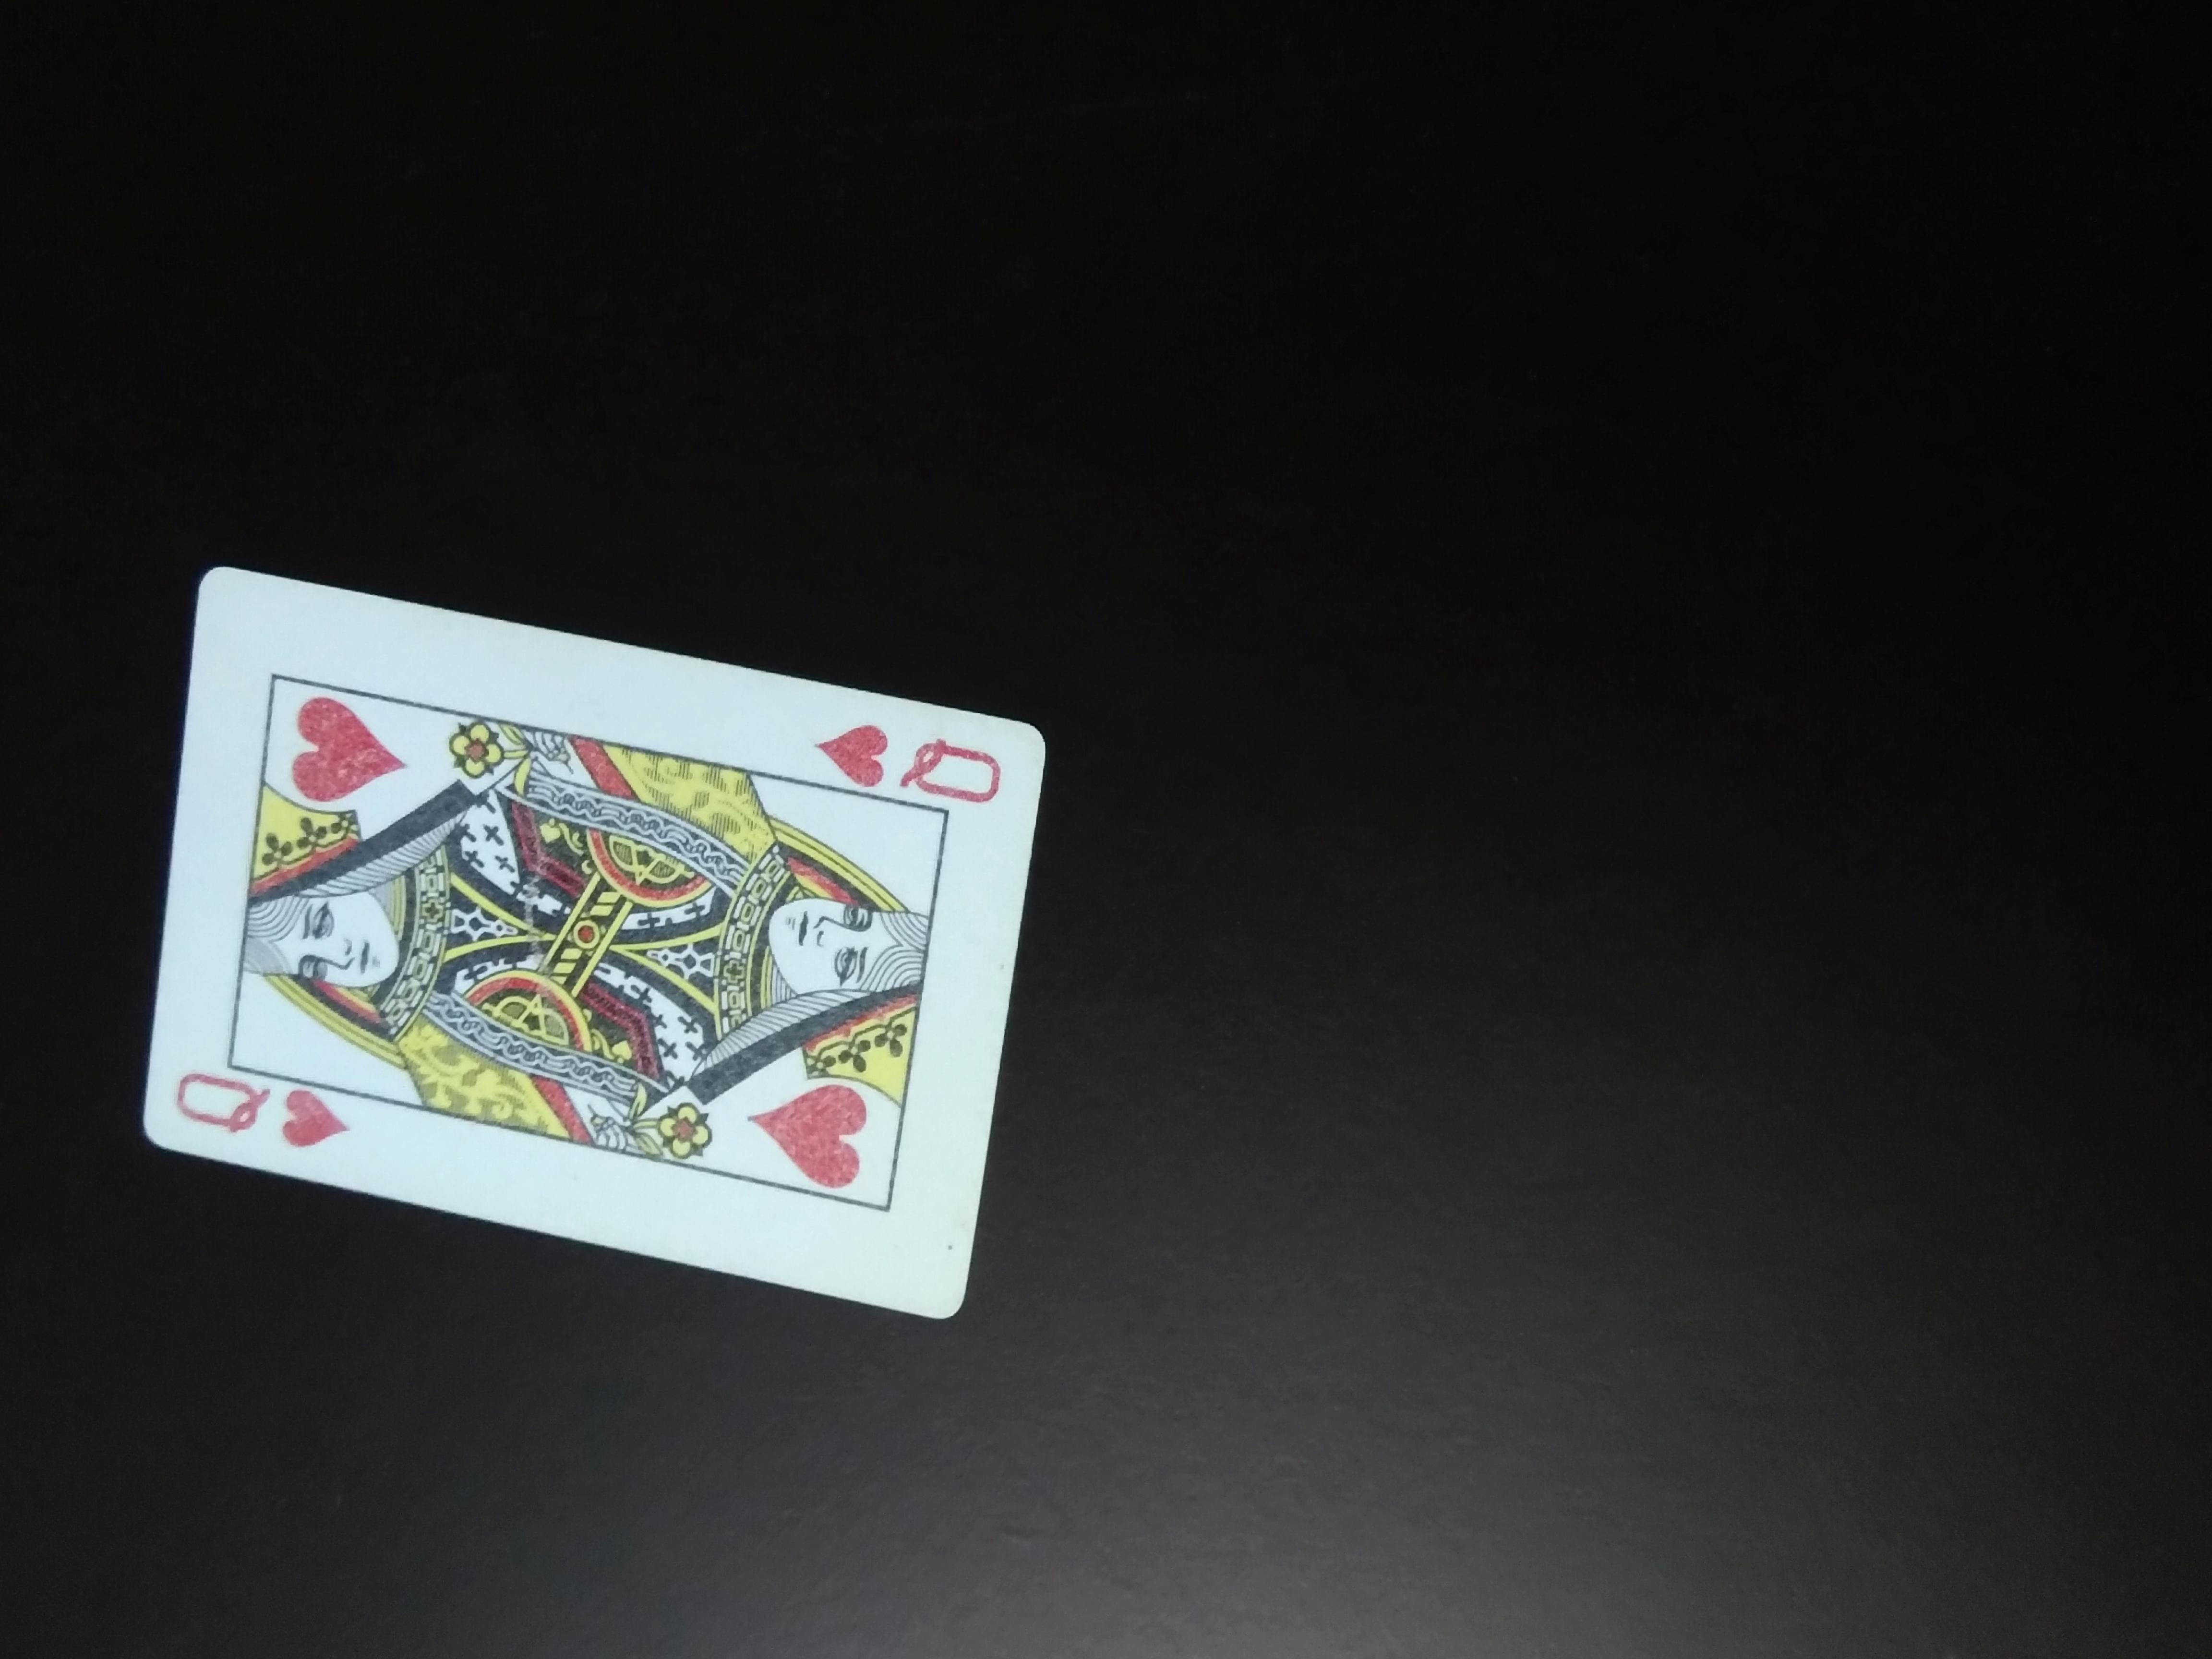QH: (789, 683, 1003, 810)
